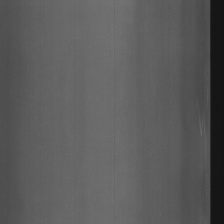silk_spot: (193, 83, 209, 150)
